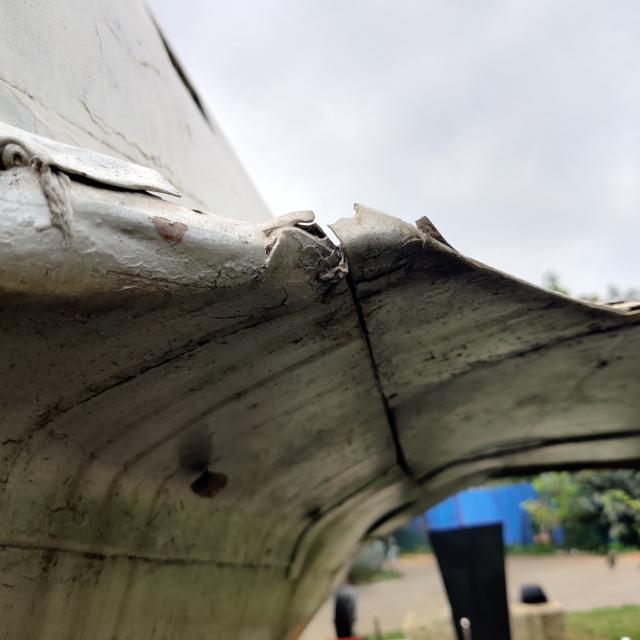Crack: (299, 211, 341, 248), (416, 216, 456, 250)
